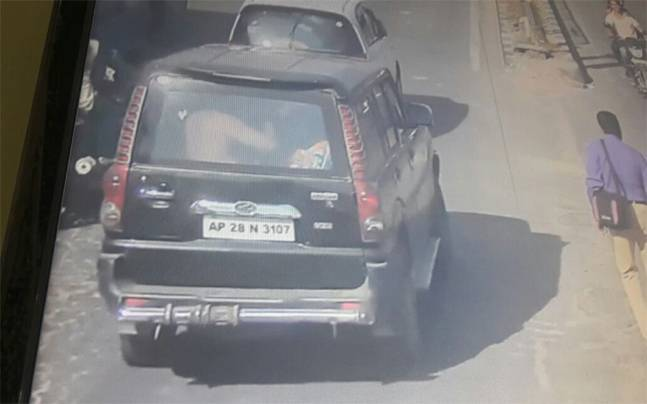number_plate: (194, 196, 304, 256)
